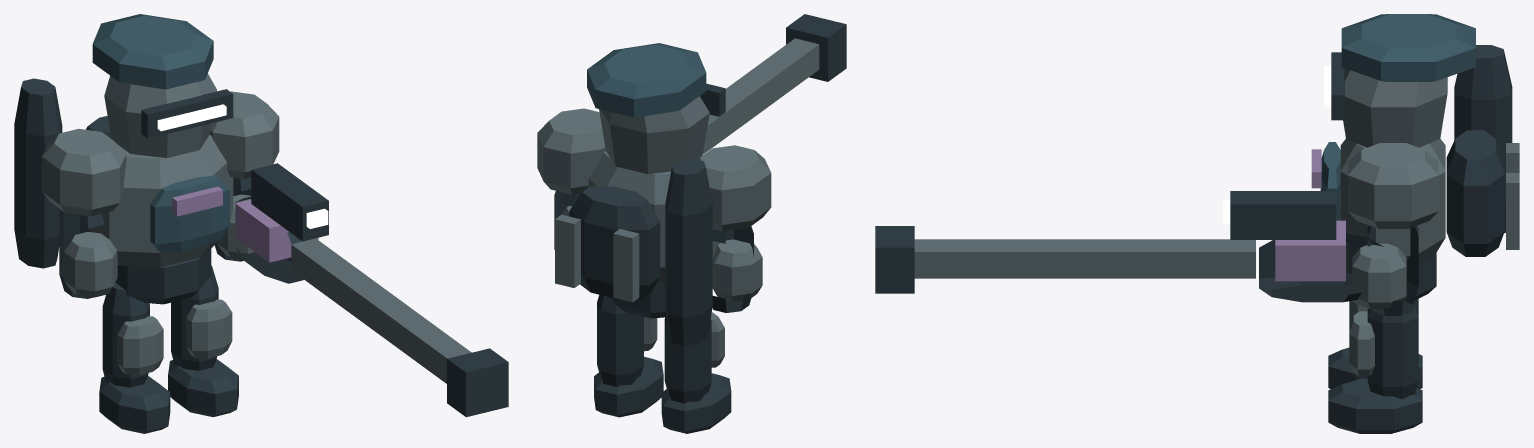
Rendered from unit_sniper.glb.
3 renders of one model, left to right at view 1: azimuth 30°, elevation 25°; view 2: azimuth 150°, elevation 25°; view 3: azimuth 270°, elevation 25°, orthographic. The views are drawn at different scales.
Visible parts, largest first — view 1: body, arm_r, arm_l, leg_l, leg_r, glow; view 2: body, arm_r, arm_l, leg_r, leg_l; view 3: arm_r, body, leg_r, leg_l.
Part boxes in pixels (box(x1,y1,x2,y2)): body: box(14, 14, 233, 304); arm_r: box(209, 91, 508, 417); arm_l: box(42, 128, 126, 298); leg_l: box(99, 282, 170, 433); leg_r: box(168, 265, 238, 416); glow: box(157, 104, 328, 228); body: box(555, 43, 725, 345); arm_r: box(537, 14, 846, 249); arm_l: box(698, 145, 771, 312); leg_r: box(594, 295, 663, 417); leg_l: box(661, 312, 731, 433); arm_r: box(875, 143, 1438, 315); body: box(1311, 14, 1519, 299); leg_r: box(1328, 300, 1422, 433); leg_l: box(1328, 298, 1422, 388).
Size of the model in its own units: 0.6674 by 1.06 by 1.64.
